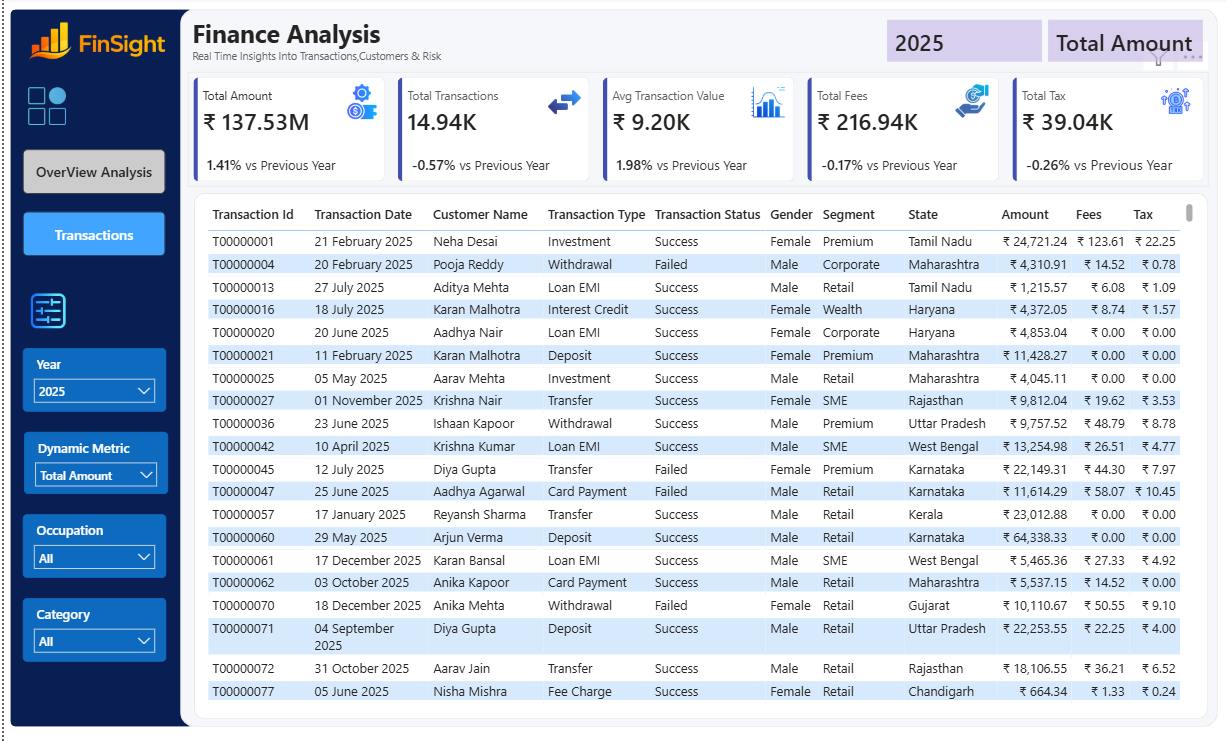

The dashboard page shown, as its layout file describes it:
{"tool":"powerbi","page":{"name":"Transactions","canvas":[1400,850],"ordinal":1},"visuals":[{"type":"shape","box":[7.1,12.9,210,820],"z":0},{"type":"shape","box":[201.4,12.9,1185.7,820],"z":1000},{"type":"image","box":[0,12.2,216.7,73.3],"z":2000},{"type":"cardVisual","fields":{"Data":["finance_transactions.DashBoard Title"]},"box":[209.4,11.8,302.4,72.9],"z":3000},{"type":"cardVisual","fields":{"Data":["finance_transactions.Total Amount","finance_transactions.Total Transactions","finance_transactions.Avg Transaction Value","finance_transactions.Total Fees","finance_transactions.Total Tax"]},"box":[210,84.3,1167.1,131.4],"z":4000},{"type":"image","box":[383.9,93.3,50,50.6],"z":6000},{"type":"image","box":[615,93.8,50,50],"z":7000},{"type":"image","box":[1080.8,92.5,50,50],"z":8000},{"type":"image","box":[847.9,93.8,50,50],"z":9000},{"type":"image","box":[1313.8,92.5,50,50],"z":10000},{"type":"shape","box":[217.5,222.5,1158.8,601.2],"z":12000},{"type":"cardVisual","fields":{"Data":["finance_transactions.Selected year","finance_transactions.Selected Dynamic Measure"]},"box":[1004.3,20,372.9,58.6],"z":13000},{"type":"tableEx","fields":{"Values":["finance_transactions.transaction_id","finance_transactions.transaction_date","customers.Customer_name","finance_transactions.transaction_type","finance_transactions.transaction_status","customers.gender","customers.customer_segment","customers.state","finance_transactions.Total Amount","finance_transactions.Total Fees","finance_transactions.Total Tax"]},"box":[227.1,230,1137.1,584.3],"z":14000},{"type":"slicer","fields":{"Values":["Calendar Table.Year"]},"box":[21.2,400,163.8,72.5],"z":14001},{"type":"slicer","fields":{"Values":["Dynamic Metric.Dynamic Metric"]},"box":[22.5,495.8,165,71.2],"z":14002},{"type":"slicer","fields":{"Values":["customers.occupation"]},"box":[21.2,590.4,163.8,72.5],"z":14003},{"type":"slicer","fields":{"Values":["finance_transactions.merchant_category"]},"box":[21.2,686.2,163.8,72.5],"z":14004},{"type":"pageNavigator","box":[21.2,172.5,163.8,122.5],"z":14005},{"type":"image","box":[22.5,97.5,53,53],"z":14006},{"type":"image","box":[22.5,330,55,55],"z":14007}]}

Visuals, with their boxes on the page's 1400x850 design canvas (x1, y1, x2, y2). These are canvas units, not pixel positions in the 1226x741 screenshot, which may show the page scaled, cropped or inside an application window:
shape: [x1=7, y1=13, x2=217, y2=833]
shape: [x1=201, y1=13, x2=1387, y2=833]
image: [x1=0, y1=12, x2=217, y2=86]
cardVisual - finance_transactions.DashBoard Title: [x1=209, y1=12, x2=512, y2=85]
cardVisual - finance_transactions.Total Amount x finance_transactions.Total Transactions: [x1=210, y1=84, x2=1377, y2=216]
image: [x1=384, y1=93, x2=434, y2=144]
image: [x1=615, y1=94, x2=665, y2=144]
image: [x1=1081, y1=92, x2=1131, y2=142]
image: [x1=848, y1=94, x2=898, y2=144]
image: [x1=1314, y1=92, x2=1364, y2=142]
shape: [x1=218, y1=222, x2=1376, y2=824]
cardVisual - finance_transactions.Selected year x finance_transactions.Selected Dynamic Measure: [x1=1004, y1=20, x2=1377, y2=79]
tableEx - finance_transactions.transaction_id x finance_transactions.transaction_date: [x1=227, y1=230, x2=1364, y2=814]
slicer - Calendar Table.Year: [x1=21, y1=400, x2=185, y2=472]
slicer - Dynamic Metric.Dynamic Metric: [x1=22, y1=496, x2=188, y2=567]
slicer - customers.occupation: [x1=21, y1=590, x2=185, y2=663]
slicer - finance_transactions.merchant_category: [x1=21, y1=686, x2=185, y2=759]
pageNavigator: [x1=21, y1=172, x2=185, y2=295]
image: [x1=22, y1=98, x2=76, y2=150]
image: [x1=22, y1=330, x2=78, y2=385]
